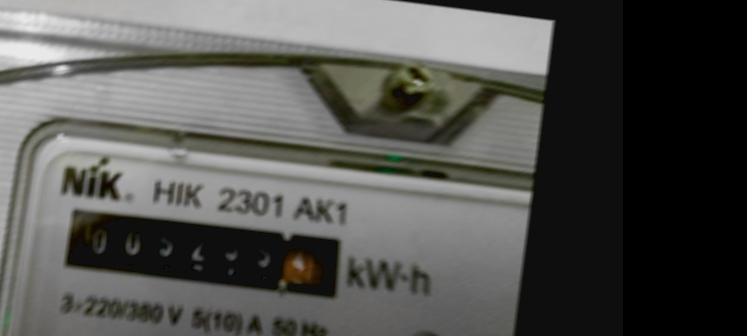0: (120, 224, 144, 259), (88, 224, 110, 257)
2: (186, 229, 211, 266)
3: (218, 231, 246, 267)
4: (286, 240, 313, 278)
5: (252, 235, 278, 273), (154, 226, 177, 261)
screen: (46, 190, 357, 315)
